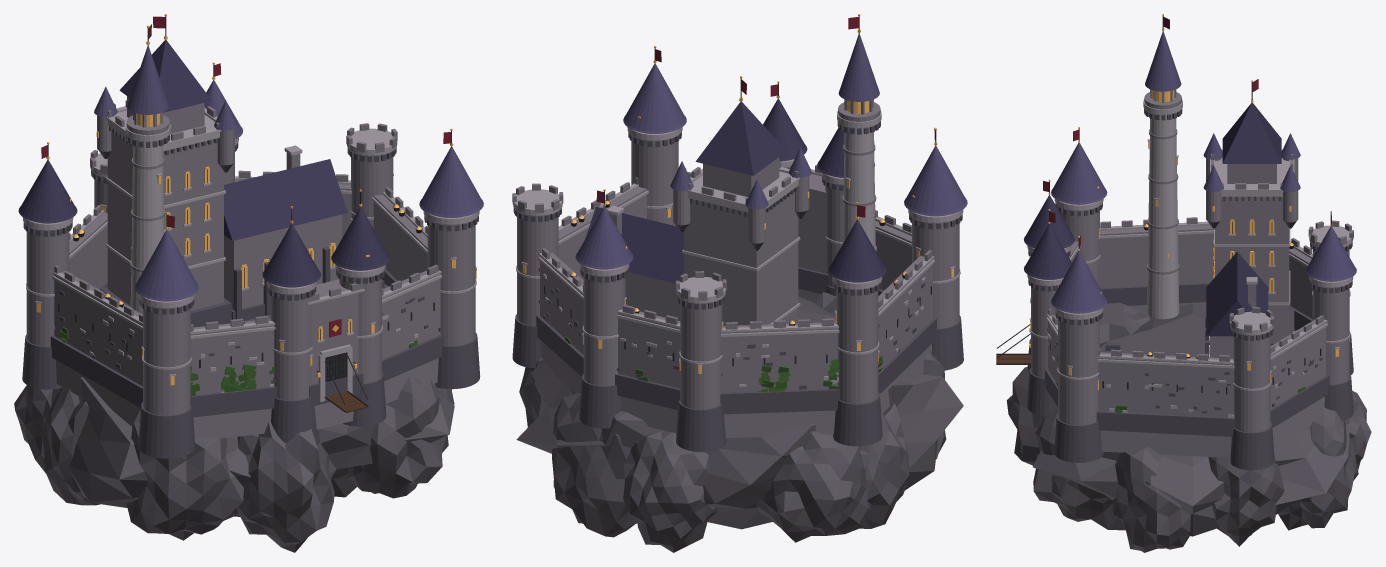
Rendered from Chateau.fbx.
3 renders of one model, left to right at view 1: azimuth 30°, elevation 25°; view 2: azimuth 150°, elevation 25°; view 3: azimuth 270°, elevation 25°, orthographic. The views are drawn at different scales.
Parts seen in each view (by area): view 1: Chateau_Socle_Roche, Chateau_Remparts_Pierre, Chateau_Tours_Pierre, Chateau_Donjon_Pierre, Chateau_Chatelet_Pierre, Chateau_Tours_PierreSombre, Chateau_Salle_Ardoise, Chateau_Remparts_PierreSombre, Chateau_Tours_ArdoiseClaire, Chateau_Salle_Pierre, Chateau_Chatelet_Ardoise, Chateau_Chatelet_PierreSombre (+15 smaller); view 2: Chateau_Socle_Roche, Chateau_Remparts_Pierre, Chateau_Tours_Pierre, Chateau_Donjon_Pierre, Chateau_Tours_PierreSombre, Chateau_Tours_ArdoiseClaire, Chateau_Remparts_PierreSombre, Chateau_Tours_PierreClaire, Chateau_Remparts_PierreClaire, Chateau_Chatelet_Pierre, Chateau_Donjon_Ardoise, Chateau_Salle_Ardoise (+11 smaller); view 3: Chateau_Socle_Roche, Chateau_Remparts_Pierre, Chateau_Tours_Pierre, Chateau_Donjon_Pierre, Chateau_Remparts_PierreSombre, Chateau_TourMage_PierreClaire, Chateau_Tours_ArdoiseClaire, Chateau_Tours_PierreSombre, Chateau_Salle_Ardoise, Chateau_Chatelet_Ardoise, Chateau_Remparts_PierreClaire, Chateau_Donjon_Ardoise (+9 smaller).
Part boxes in pixels (x1,y1,x2,y2): Chateau_Socle_Roche: [14, 315, 454, 552]; Chateau_Remparts_Pierre: [54, 170, 440, 438]; Chateau_Tours_Pierre: [26, 123, 475, 415]; Chateau_Donjon_Pierre: [97, 96, 234, 310]; Chateau_Chatelet_Pierre: [270, 270, 381, 429]; Chateau_Tours_PierreSombre: [22, 142, 480, 458]; Chateau_Salle_Ardoise: [224, 159, 347, 240]; Chateau_Remparts_PierreSombre: [50, 269, 443, 417]; Chateau_Tours_ArdoiseClaire: [134, 80, 483, 301]; Chateau_Salle_Pierre: [224, 153, 341, 309]; Chateau_Chatelet_Ardoise: [262, 207, 389, 287]; Chateau_Chatelet_PierreSombre: [267, 269, 386, 442]; Chateau_Socle_Roche: [516, 292, 963, 552]; Chateau_Remparts_Pierre: [540, 172, 933, 438]; Chateau_Tours_Pierre: [512, 132, 959, 409]; Chateau_Donjon_Pierre: [673, 157, 809, 325]; Chateau_Tours_PierreSombre: [512, 132, 963, 451]; Chateau_Tours_ArdoiseClaire: [575, 63, 967, 269]; Chateau_Remparts_PierreSombre: [536, 267, 936, 414]; Chateau_Tours_PierreClaire: [513, 127, 963, 365]; Chateau_Remparts_PierreClaire: [538, 183, 934, 386]; Chateau_Chatelet_Pierre: [781, 160, 843, 302]; Chateau_Donjon_Ardoise: [695, 101, 786, 175]; Chateau_Salle_Ardoise: [585, 206, 683, 283]; Chateau_Socle_Roche: [1006, 303, 1371, 552]; Chateau_Remparts_Pierre: [1048, 217, 1326, 457]; Chateau_Tours_Pierre: [1058, 203, 1353, 432]; Chateau_Donjon_Pierre: [1206, 149, 1298, 341]; Chateau_Remparts_PierreSombre: [1045, 282, 1329, 436]; Chateau_TourMage_PierreClaire: [1143, 99, 1182, 319]; Chateau_Tours_ArdoiseClaire: [1051, 142, 1356, 313]; Chateau_Tours_PierreSombre: [1054, 203, 1353, 470]; Chateau_Salle_Ardoise: [1206, 251, 1268, 336]; Chateau_Chatelet_Ardoise: [1024, 195, 1074, 279]; Chateau_Remparts_PierreClaire: [1046, 221, 1327, 418]; Chateau_Donjon_Ardoise: [1222, 102, 1281, 163].
Bounding box in the file's own units: 160 × 196 × 152.
